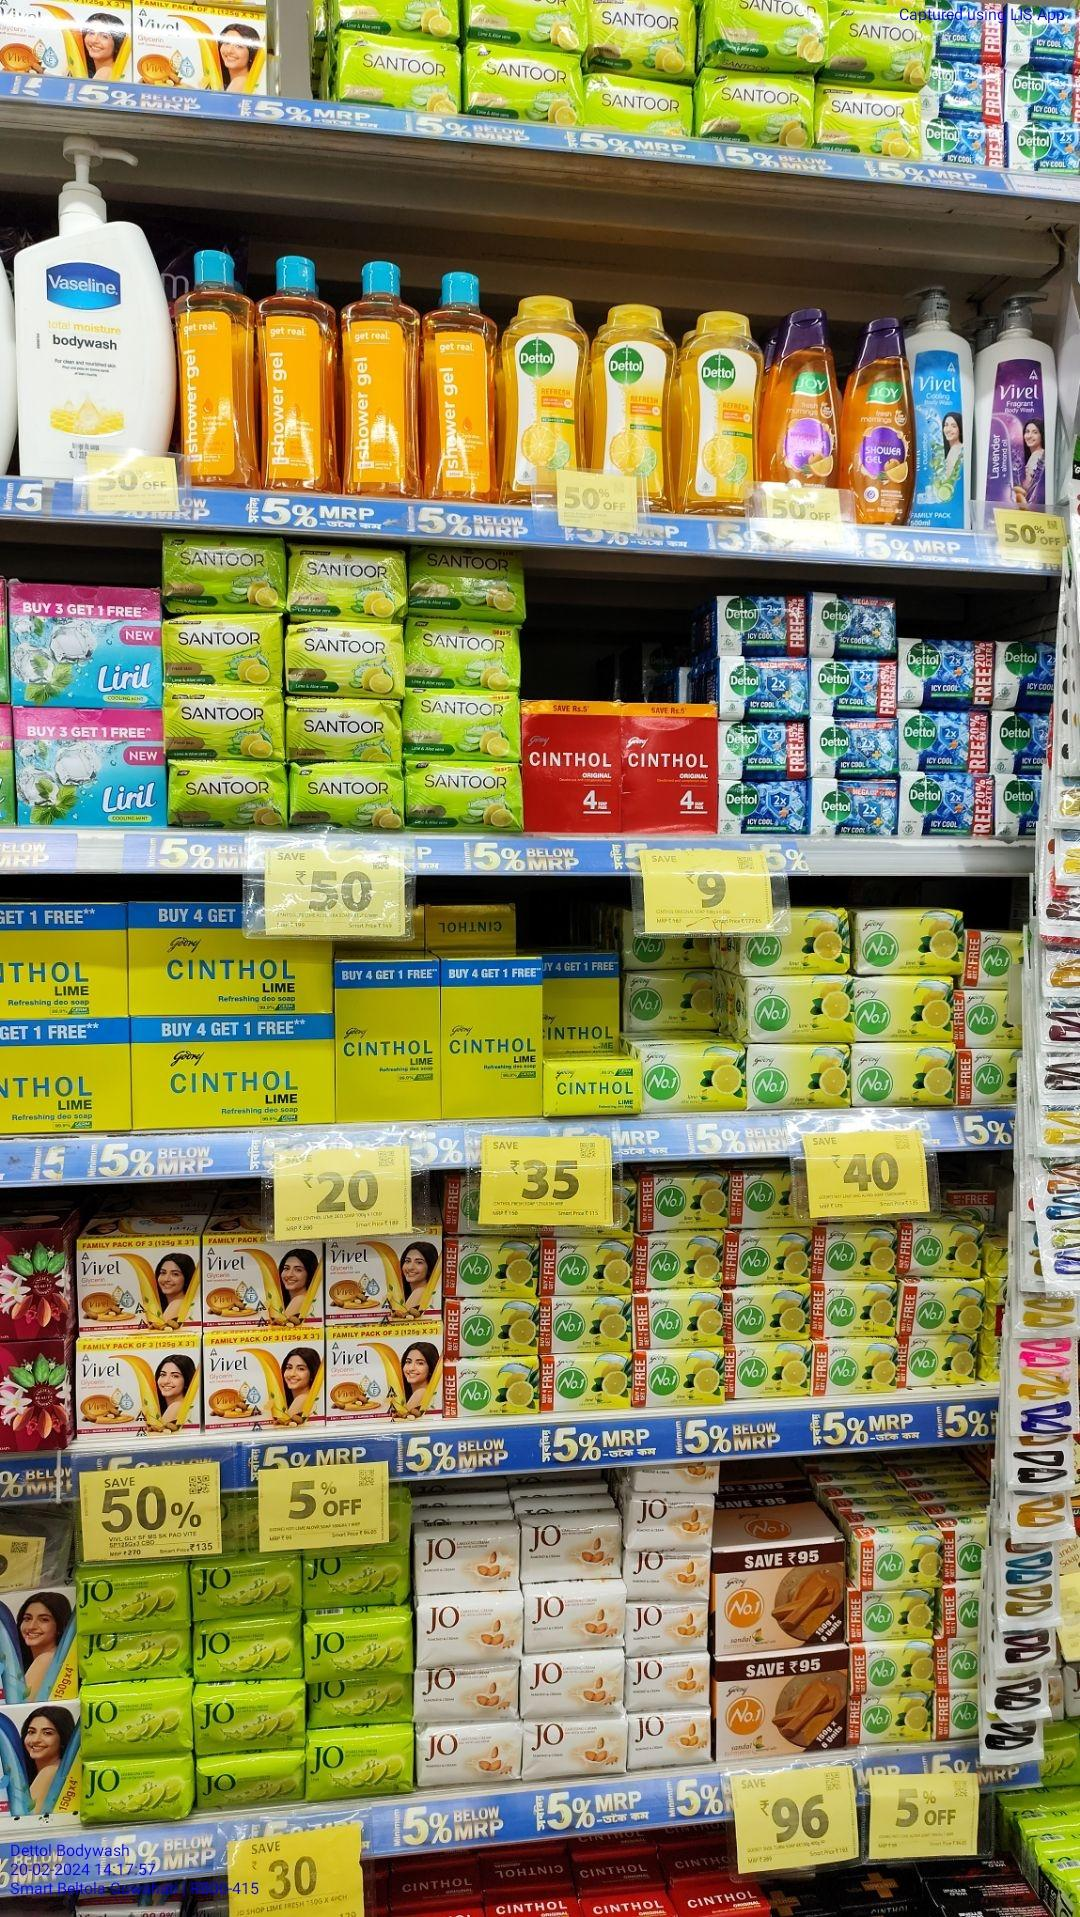Dettol_Bodywash_Refresh: (495, 294, 587, 471), (677, 311, 765, 485), (594, 307, 672, 470)
Joy_Shower_Gel_Mandarin_and_Lemongrass_250ML: (842, 315, 913, 524), (770, 304, 834, 485)
